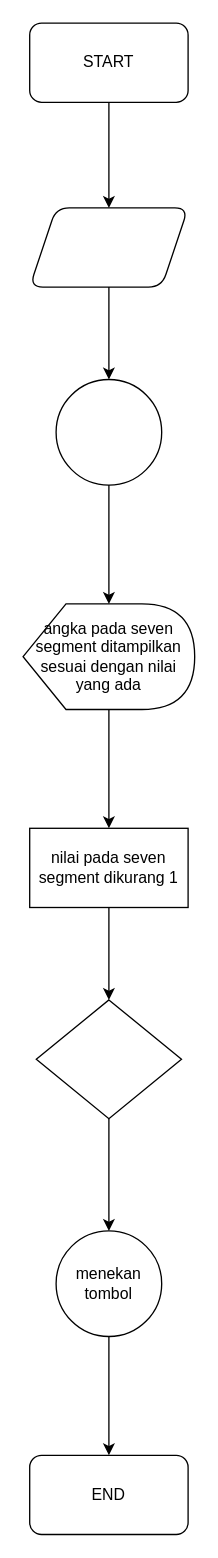
Some shapes in this 218 by 1558 pixel diagram are drawn without their labels. The shapes that lost their labels are listed below. From the top down, each one's centre as x and y in pixels, then its label:
At (x=108, y=247): "nilai awal pada seven segment diatur menjadi 0".
At (x=108, y=431): "menekan button".
At (x=108, y=1059): "apakah nilai >0?".
